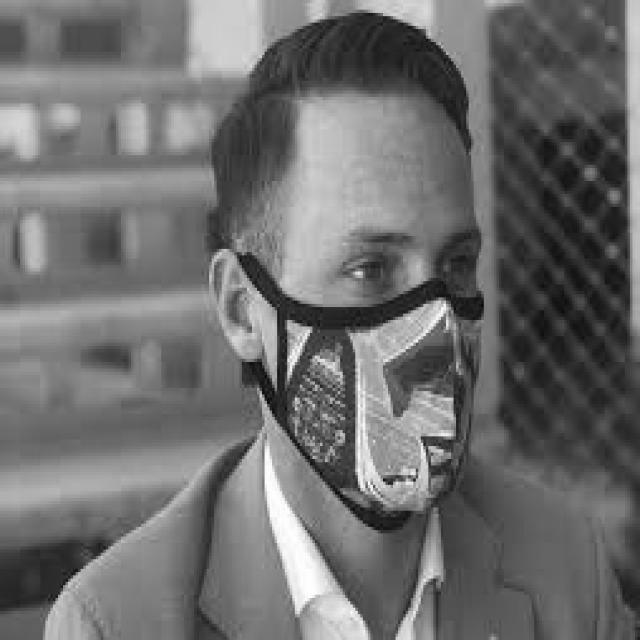fake: (272, 275, 488, 532)
real: (267, 96, 478, 535)
